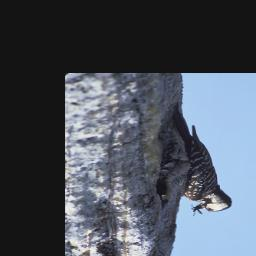Woodpecker: (156, 101, 233, 218)
